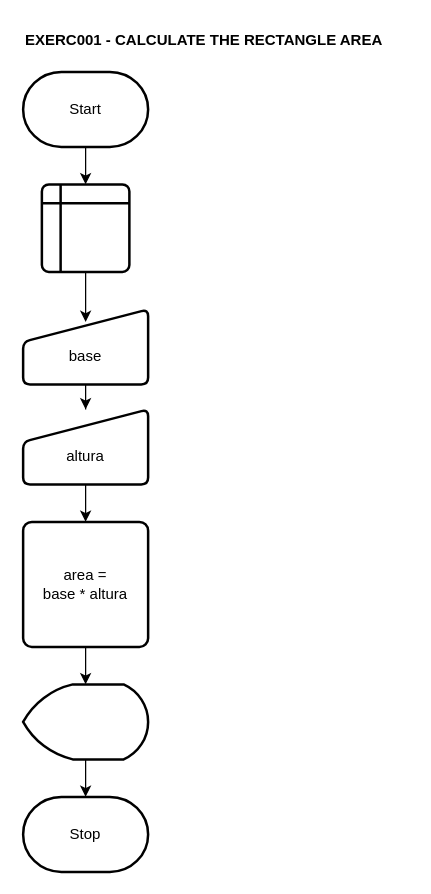
Image size: 431x894. Some labels were removed from this diagram. The box of each missing label's shape, as (x1, y1, x2, y2) in pixels:
area: (21, 682, 149, 760)
base altura area: (40, 182, 130, 272)
